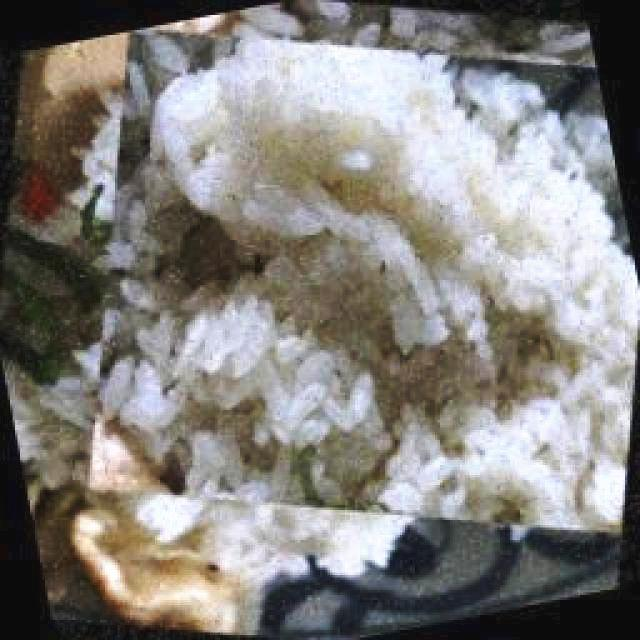fried_dumplings: (72, 511, 246, 636)
rice: (131, 38, 621, 526)
